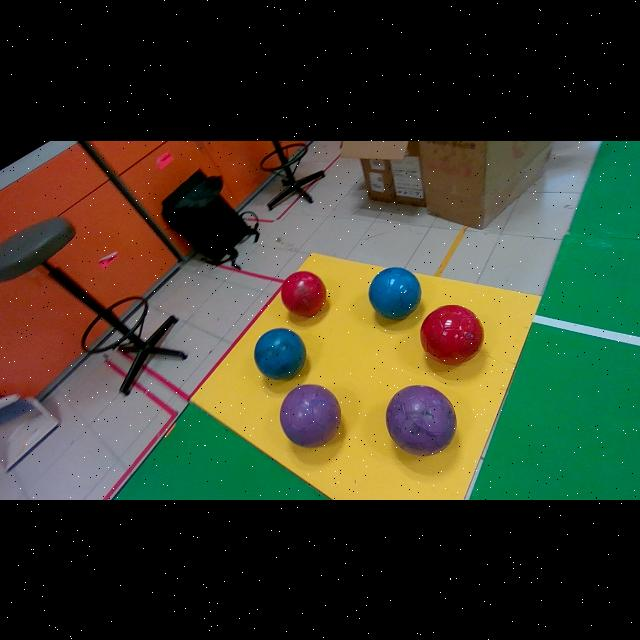B: (369, 267, 421, 318), (254, 328, 306, 379)
P: (386, 385, 456, 455), (279, 384, 341, 447)
R: (420, 304, 484, 364), (281, 270, 327, 316)
